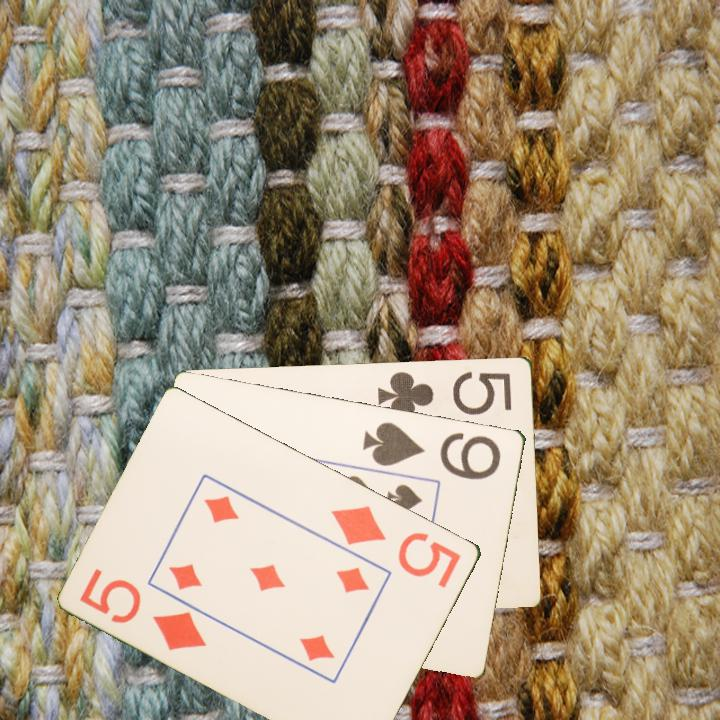5c: (374, 367, 515, 423)
5d: (328, 501, 465, 591), (76, 564, 210, 654)
9s: (359, 418, 505, 483)
